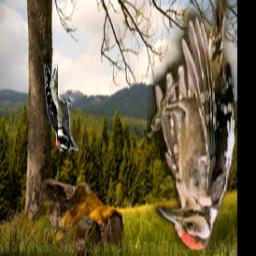Woodpecker: (146, 0, 236, 251), (43, 63, 78, 151)
